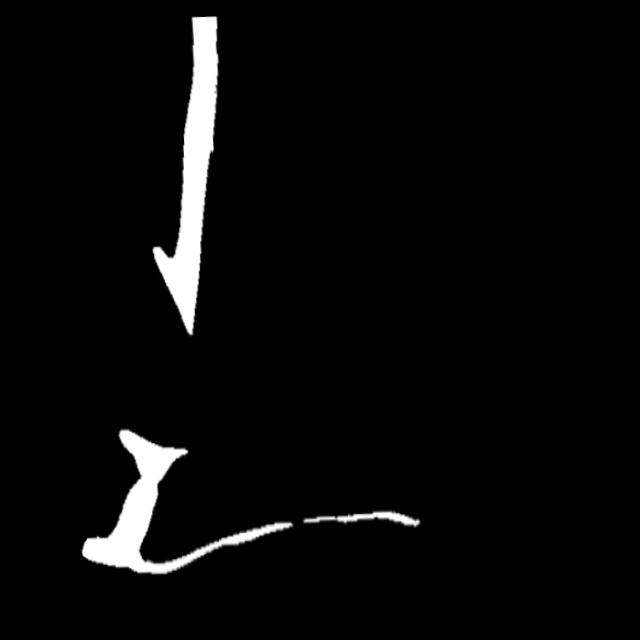sup: (283, 507, 317, 530)
